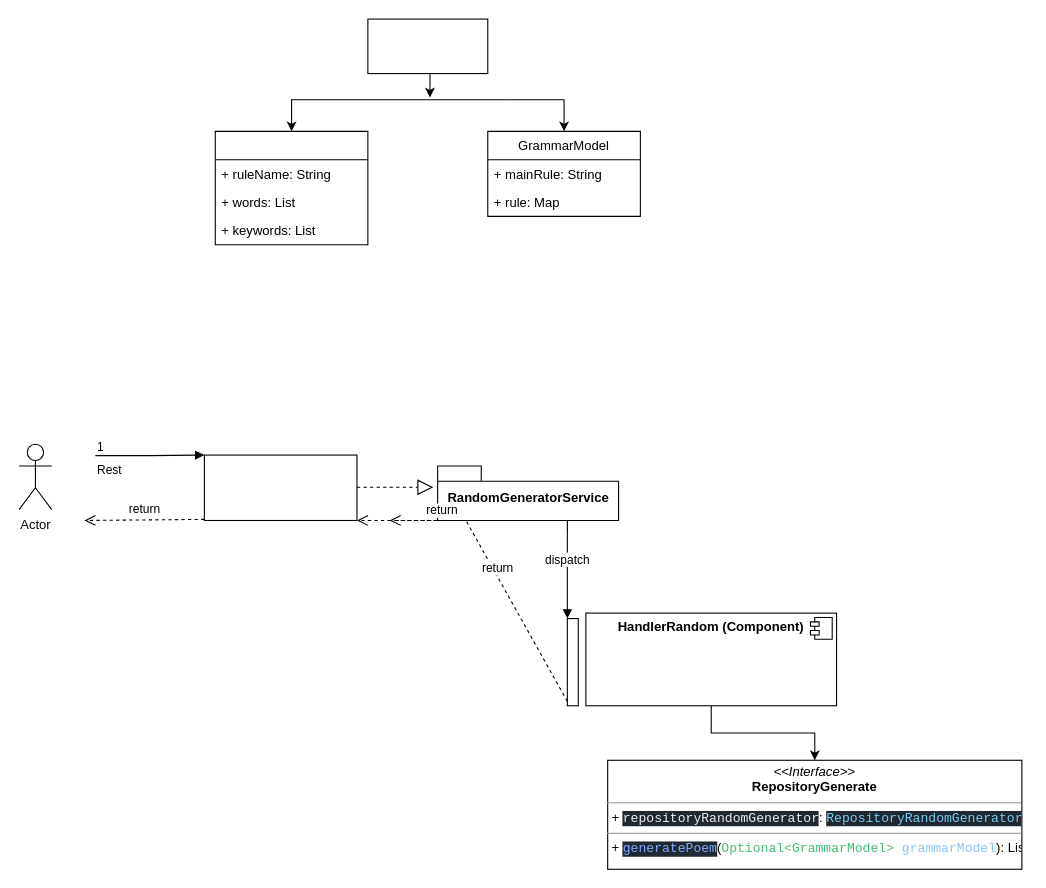
The diagram is 1046 pixels wide and 888 high, and some of its shapes have lost their labels. Each missing label, with the box of its shape:
MODELS: (367, 18, 488, 74)
RandomGeneratorRest generatePoem: List: (203, 454, 357, 520)
RuleModel: (214, 130, 368, 245)
